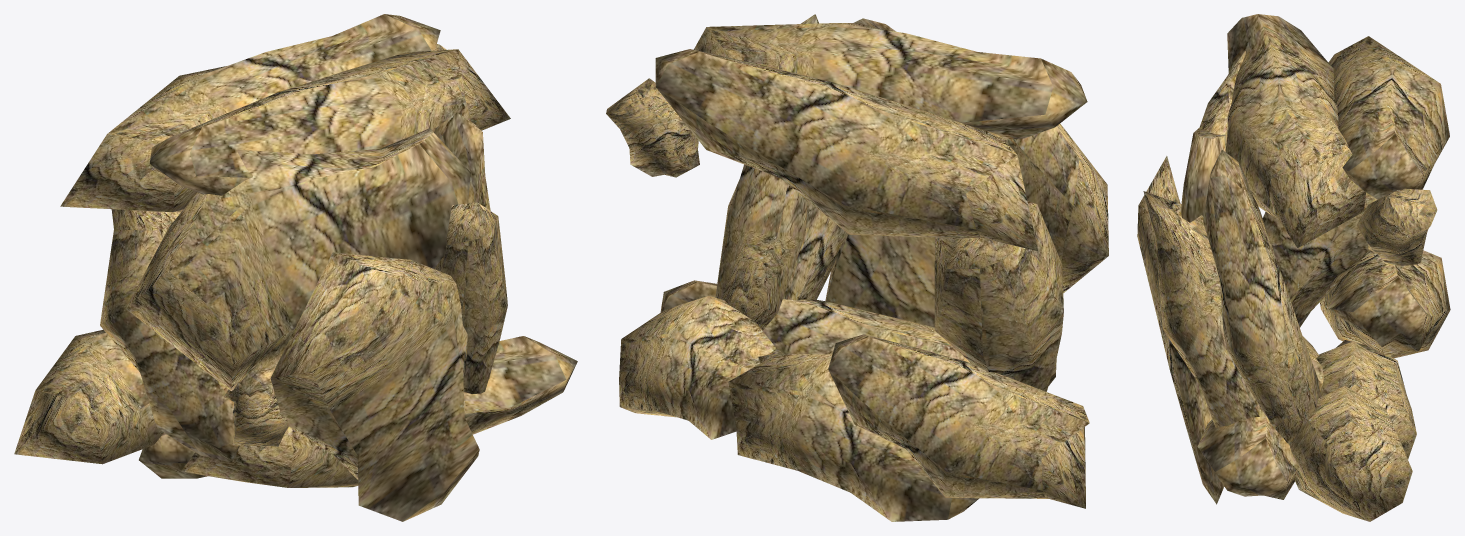
Rendered from cave_000051.obj.
The picture shows the model from 3 angles, left to right: view 1: azimuth 30°, elevation 25°; view 2: azimuth 150°, elevation 25°; view 3: azimuth 270°, elevation 25°; orthographic projection. The views are drawn at different scales.
Parts seen in each view (by area): view 1: Cube.006, Cube.008, Cube.007, Cube.005, Cube.003, Cube.004, Cube.002, Cube.012, Cube.010, Cube_Cube.001, Cube.001_Cube.000; view 2: Cube.005, Cube.004, Cube.007, Cube.001_Cube.000, Cube.003, Cube.009, Cube_Cube.001, Cube.006, Cube.008, Cube.002, Cube.011, Cube.012; view 3: Cube.007, Cube_Cube.001, Cube.005, Cube.012, Cube.009, Cube.004, Cube.002, Cube.003, Cube.008, Cube.001_Cube.000, Cube.011, Cube.006.
Boxes of the visible parts, x1,y1,x2,y2 form: Cube.006: [126, 128, 470, 390]; Cube.008: [270, 252, 479, 521]; Cube.007: [150, 49, 510, 195]; Cube.005: [60, 14, 440, 212]; Cube.003: [100, 209, 239, 462]; Cube.004: [14, 329, 163, 464]; Cube.002: [181, 336, 577, 487]; Cube.012: [434, 202, 507, 393]; Cube.010: [224, 367, 289, 446]; Cube_Cube.001: [434, 112, 490, 210]; Cube.001_Cube.000: [139, 369, 274, 478]; Cube.005: [655, 49, 1037, 250]; Cube.004: [828, 334, 1089, 508]; Cube.007: [694, 23, 1087, 139]; Cube.001_Cube.000: [728, 353, 979, 521]; Cube.003: [934, 201, 1063, 391]; Cube.009: [619, 296, 782, 439]; Cube_Cube.001: [715, 14, 818, 330]; Cube.006: [854, 18, 1108, 292]; Cube.008: [825, 233, 934, 327]; Cube.002: [660, 280, 969, 362]; Cube.011: [606, 78, 699, 177]; Cube.012: [783, 201, 847, 300]; Cube.007: [1225, 14, 1365, 247]; Cube_Cube.001: [1203, 150, 1321, 444]; Cube.005: [1328, 36, 1449, 199]; Cube.012: [1143, 191, 1265, 427]; Cube.009: [1289, 385, 1412, 521]; Cube.004: [1320, 250, 1450, 358]; Cube.002: [1197, 336, 1323, 499]; Cube.003: [1263, 192, 1377, 327]; Cube.008: [1137, 156, 1224, 504]; Cube.001_Cube.000: [1316, 340, 1416, 459]; Cube.011: [1357, 188, 1437, 266]; Cube.006: [1181, 51, 1245, 222].
Size of the model in its own units: 10.26 by 8.45 by 6.09.
